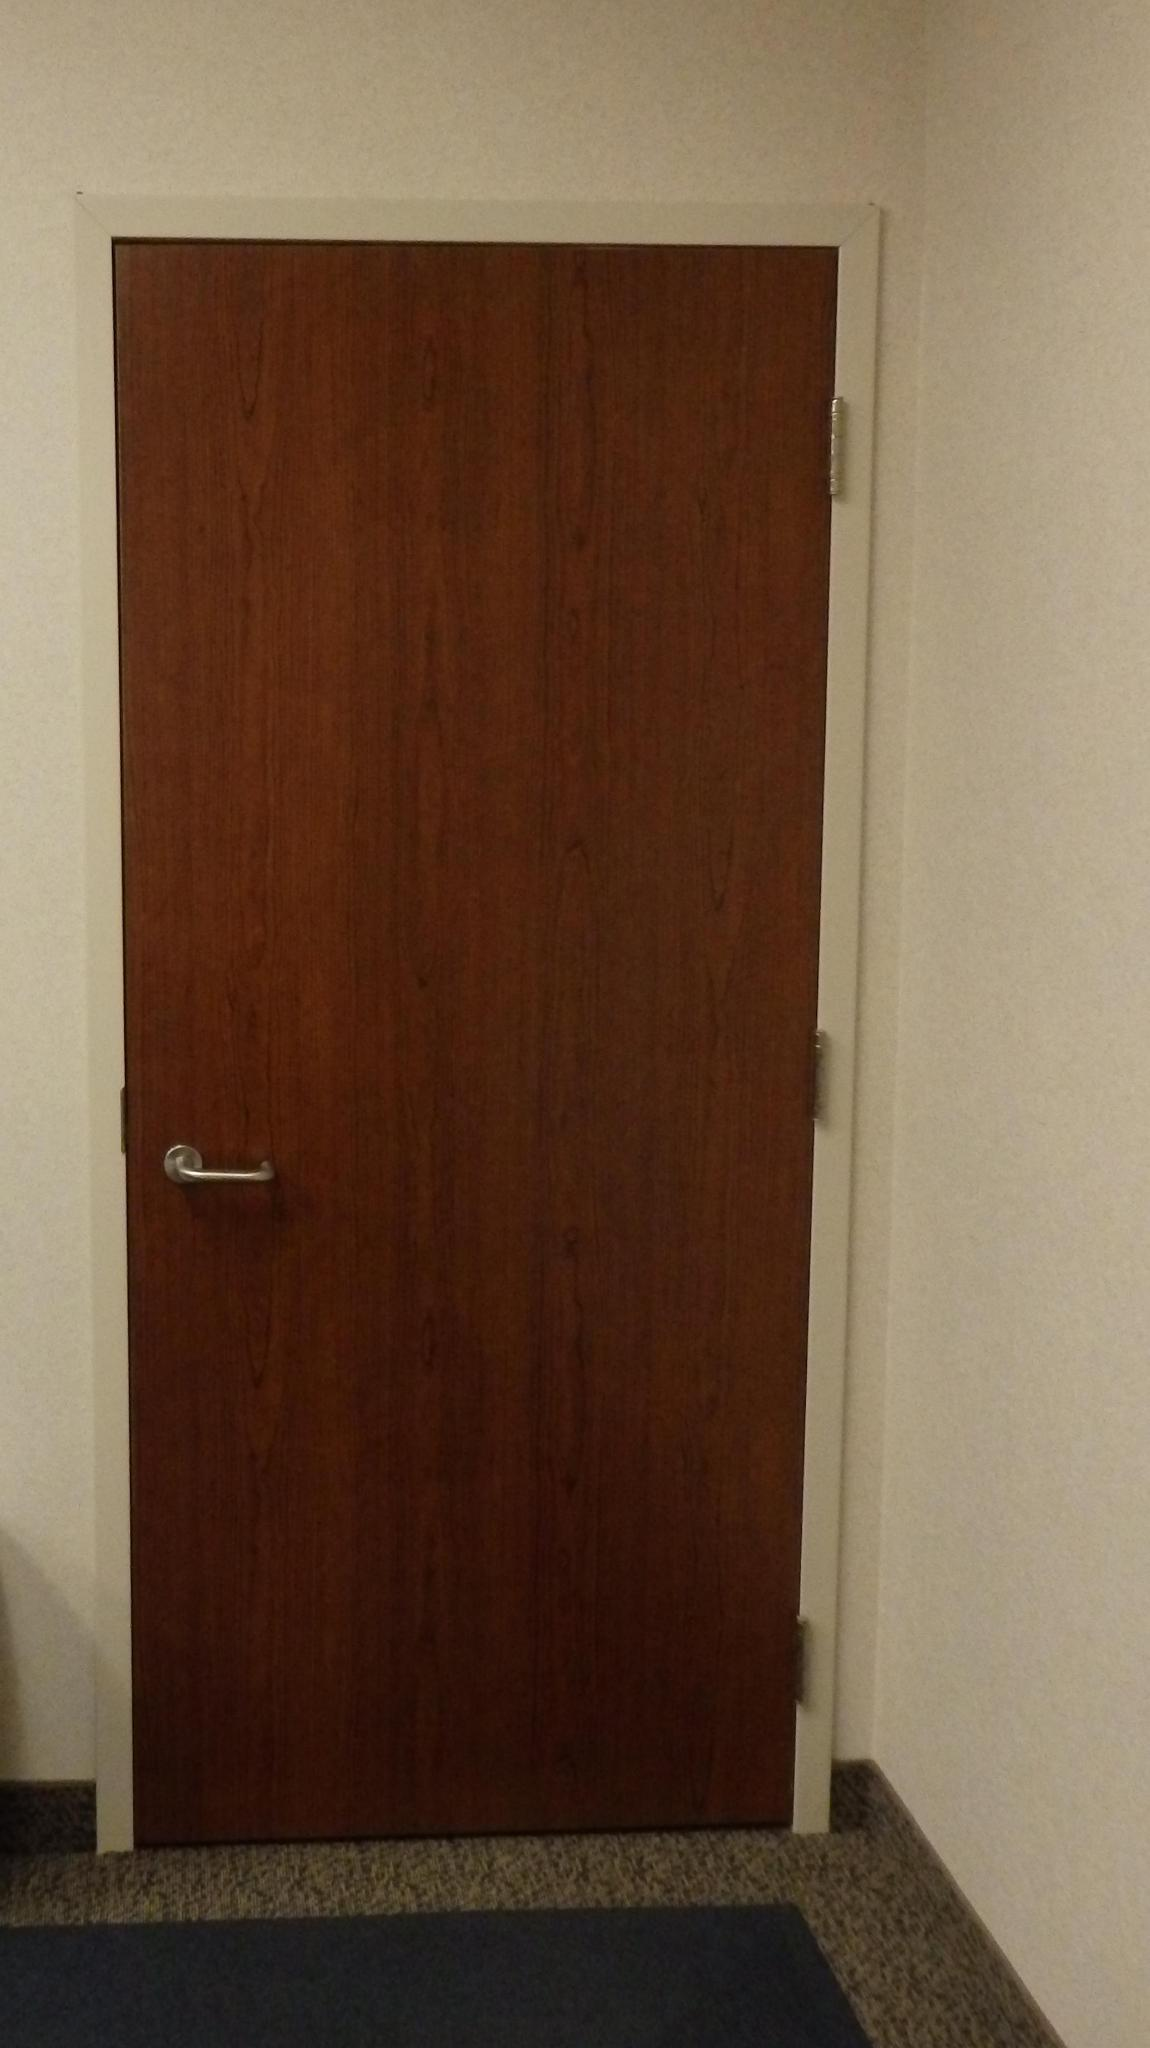door: (138, 304, 822, 1782)
handle: (162, 1104, 278, 1228)
